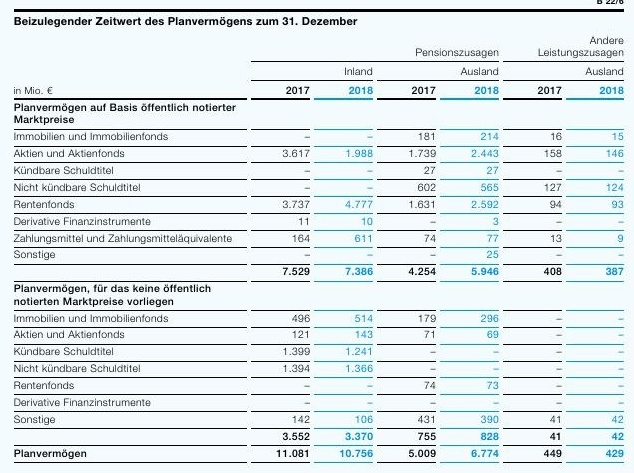table: (0, 0, 634, 473)
